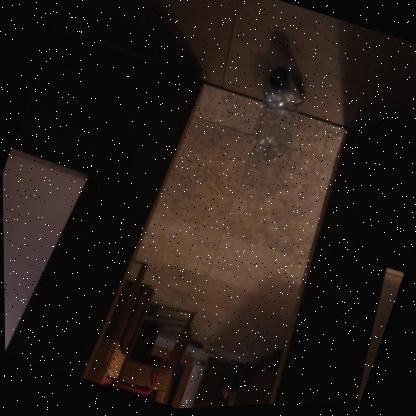Plastic: (252, 70, 303, 164)
Waste: (269, 70, 287, 92)
